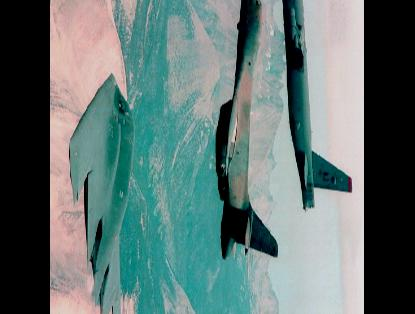AV8B: (217, 0, 281, 281)
B1: (69, 70, 136, 313)
B2: (282, 0, 353, 212)
